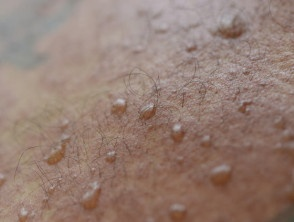SJS-TEN: (0, 46, 252, 222), (98, 0, 262, 75)
